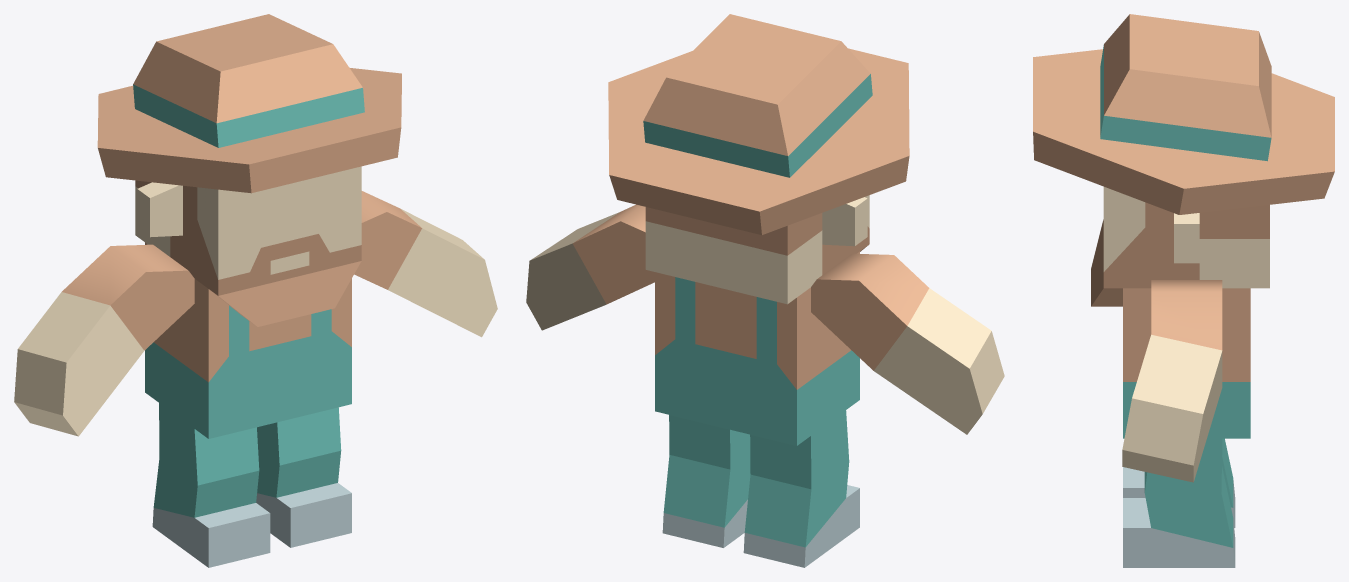
Rendered from FixedDigger.fbx.
3 views of the same model, side by side, from view 1: azimuth 30°, elevation 25°; view 2: azimuth 150°, elevation 25°; view 3: azimuth 270°, elevation 25° (orthographic).
Parts seen in each view (by area): view 1: head, body, armRight, legRight, armLeft, legLeft; view 2: head, body, armRight, legRight, armLeft, legLeft; view 3: head, armLeft, legLeft, body, legRight.
Boxes of the visible parts, x1,y1,x2,y2 form: head: [97, 14, 401, 326]; body: [145, 242, 351, 438]; armRight: [14, 244, 194, 436]; legRight: [152, 403, 270, 567]; armLeft: [354, 191, 497, 337]; legLeft: [256, 407, 351, 547]; head: [608, 14, 909, 304]; body: [655, 251, 859, 445]; armRight: [811, 253, 1004, 434]; legRight: [743, 410, 859, 567]; armLeft: [526, 204, 654, 330]; legLeft: [662, 415, 750, 547]; head: [1033, 14, 1334, 306]; armLeft: [1122, 280, 1222, 482]; legLeft: [1123, 438, 1235, 567]; body: [1123, 288, 1250, 438]; legRight: [1123, 438, 1235, 527].
Size of the model in its own units: 83.6 by 84.87 by 47.27.
